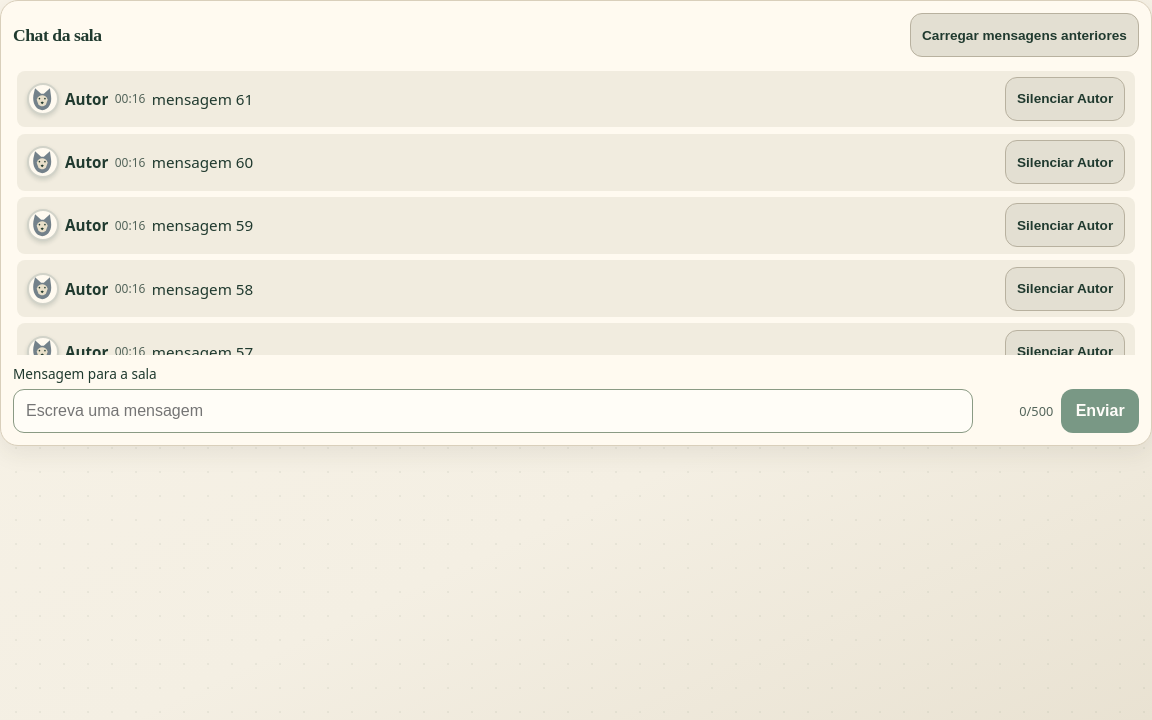
it: recuperação de intervalos do histórico › recupera a lacuna entre o cache antigo e a página recente (cenário 1 + 60)
Note: O cursor da página recente (12) recupera o intervalo perdido.
Click the button with test id "chat-load-older" at (1024,35), box top-left (910, 13), bottom-right (1139, 57)
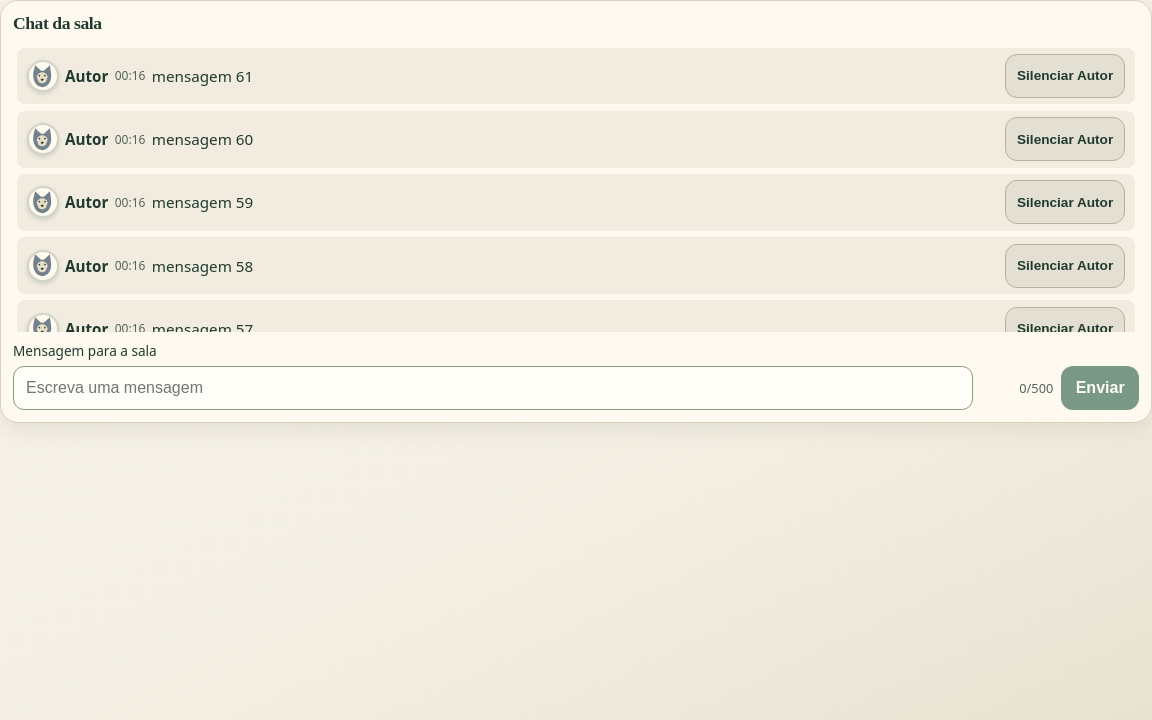
Expected: the button with test id "chat-load-older" is gone
